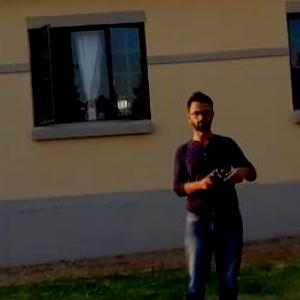follow: (170, 83, 264, 299)
